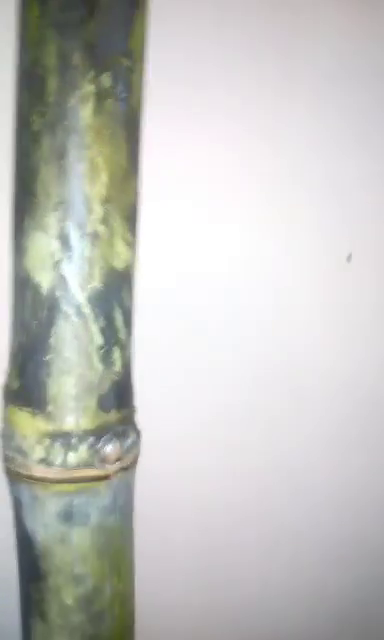cane eye: (95, 432, 126, 467)
